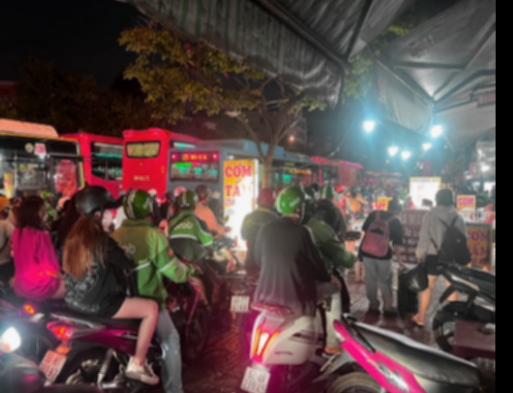Bien-so: (261, 353, 299, 387), (51, 353, 82, 390), (244, 285, 267, 305)
